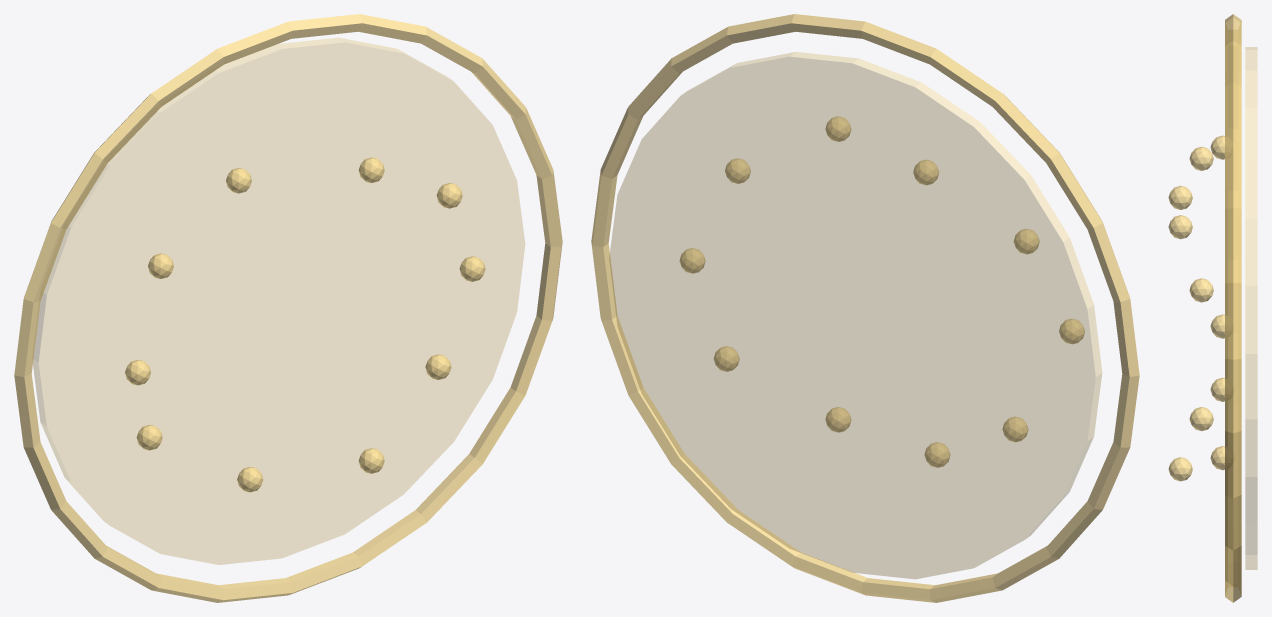
Rendered from 02_water_star_environment_overlay_2.glb.
3 renders of one model, left to right at view 1: azimuth 30°, elevation 25°; view 2: azimuth 150°, elevation 25°; view 3: azimuth 270°, elevation 25°, orthographic. The views are drawn at different scales.
Visible parts, largest first — view 1: environment_surface_disc, foam_or_star_ring; view 2: environment_surface_disc, foam_or_star_ring; view 3: foam_or_star_ring, environment_surface_disc, star_or_droplet_1, star_or_droplet_4, star_or_droplet_8, star_or_droplet_2, star_or_droplet_5, star_or_droplet_7, star_or_droplet_6, star_or_droplet_3, star_or_droplet_9, star_or_droplet_0.
Boxes of the visible parts, left/top/right/bottom form: environment_surface_disc: left=33, top=38, right=524, bottom=564; foam_or_star_ring: left=14, top=14, right=562, bottom=602; environment_surface_disc: left=609, top=52, right=1101, bottom=578; foam_or_star_ring: left=591, top=14, right=1139, bottom=602; foam_or_star_ring: left=1225, top=14, right=1241, bottom=602; environment_surface_disc: left=1245, top=47, right=1257, bottom=569; star_or_droplet_1: left=1189, top=278, right=1213, bottom=302; star_or_droplet_4: left=1189, top=146, right=1213, bottom=170; star_or_droplet_8: left=1168, top=457, right=1192, bottom=481; star_or_droplet_2: left=1168, top=185, right=1192, bottom=209; star_or_droplet_5: left=1168, top=215, right=1192, bottom=239; star_or_droplet_7: left=1189, top=407, right=1213, bottom=431; star_or_droplet_6: left=1210, top=314, right=1224, bottom=338; star_or_droplet_3: left=1210, top=135, right=1224, bottom=159; star_or_droplet_9: left=1210, top=446, right=1224, bottom=470; star_or_droplet_0: left=1210, top=377, right=1224, bottom=401.
Bounding box in the file's own units: 1.69 × 1.69 × 0.2545.
